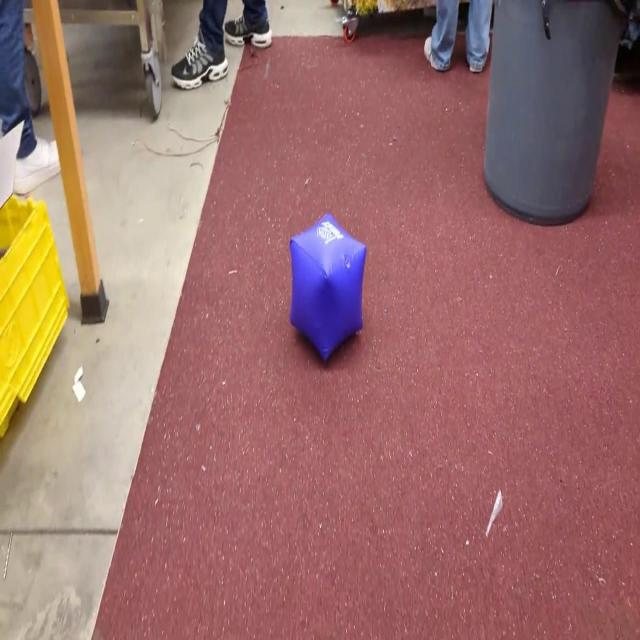frc_cube: (288, 211, 366, 365)
